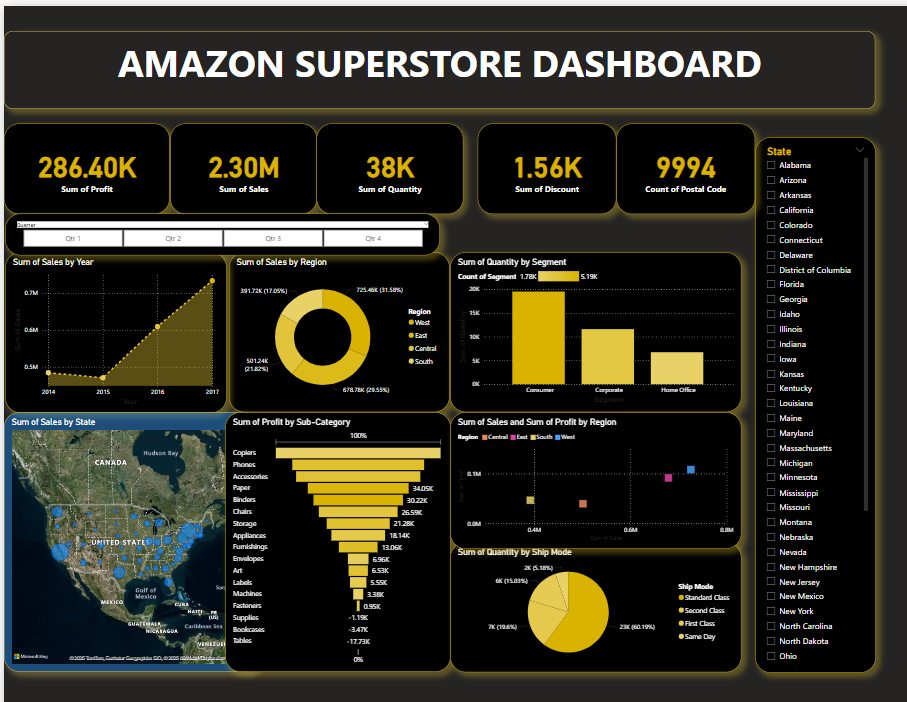

The dashboard page shown, as its layout file describes it:
{"tool":"powerbi","page":{"name":"DASHBOARD","canvas":[1700,1300],"ordinal":0},"visuals":[{"type":"textbox","box":[0,48.3,1700,151.7],"z":0},{"type":"donutChart","fields":{"Category":["Orders.Region"],"Y":["Sum(Orders.Sales)"]},"box":[440,481.7,430,311.7],"z":1000},{"type":"lineChart","fields":{"Category":["Orders.Order Date.Variation.Date Hierarchy.Year","Orders.Order Date.Variation.Date Hierarchy.Quarter","Orders.Order Date.Variation.Date Hierarchy.Month","Orders.Order Date.Variation.Date Hierarchy.Day"],"Y":["Sum(Orders.Sales)"]},"box":[1.7,481.7,431.7,313.3],"z":2000},{"type":"map","fields":{"Category":["Orders.State"],"Size":["Sum(Orders.Sales)"]},"box":[0,793.3,431.7,506.7],"z":3000},{"type":"slicer","fields":{"Values":["Orders.State"]},"box":[1465,255,235,1045],"z":4000},{"type":"funnel","fields":{"Y":["Sum(Orders.Profit)"],"Category":["Orders.Sub-Category"]},"box":[431.7,793.3,440,506.7],"z":5000},{"type":"clusteredColumnChart","fields":{"Category":["Orders.Segment"],"Y":["Sum(Orders.Quantity)"]},"box":[871.7,481.7,568.3,311.7],"z":6000},{"type":"pieChart","fields":{"Category":["Orders.Ship Mode"],"Y":["Sum(Orders.Quantity)"]},"box":[871.7,1046.7,568.3,253.3],"z":7000},{"type":"scatterChart","fields":{"X":["Sum(Orders.Sales)"],"Y":["Sum(Orders.Profit)"],"Series":["Orders.Region"]},"box":[870,793.3,568.3,266.7],"z":8000},{"type":"card","fields":{"Values":["Sum(Orders.Profit)"]},"box":[0,228.3,323.3,176.7],"z":9000},{"type":"card","fields":{"Values":["Sum(Orders.Sales)"]},"box":[323.3,228.3,286.7,176.7],"z":10000},{"type":"card","fields":{"Values":["Sum(Orders.Discount)"]},"box":[925,228.3,270,176.7],"z":11000},{"type":"card","fields":{"Values":["Sum(Orders.Quantity)"]},"box":[610,228.3,286.7,176.7],"z":12000},{"type":"card","fields":{"Values":["CountNonNull(Orders.Postal Code)"]},"box":[1195,228.3,270,176.7],"z":13000},{"type":"slicer","fields":{"Values":["Orders.Order Date.Variation.Date Hierarchy.Quarter"]},"box":[1.7,405,848.3,81.7],"z":14000}]}

Visuals, with their boxes in screenshot pixels (x1, y1, x2, y2), scaled from the page's 1700x1300 canvas onto the 907x702 screenshot:
textbox: (left=0, top=26, right=906, bottom=108)
donutChart - Orders.Region x Sum(Orders.Sales): (left=235, top=260, right=464, bottom=428)
lineChart - Orders.Order Date.Variation.Date Hierarchy.Year x Orders.Order Date.Variation.Date Hierarchy.Quarter: (left=1, top=260, right=231, bottom=429)
map - Orders.State x Sum(Orders.Sales): (left=0, top=428, right=230, bottom=701)
slicer - Orders.State: (left=782, top=138, right=906, bottom=701)
funnel - Sum(Orders.Profit) x Orders.Sub-Category: (left=230, top=428, right=465, bottom=701)
clusteredColumnChart - Orders.Segment x Sum(Orders.Quantity): (left=465, top=260, right=768, bottom=428)
pieChart - Orders.Ship Mode x Sum(Orders.Quantity): (left=465, top=565, right=768, bottom=701)
scatterChart - Sum(Orders.Sales) x Sum(Orders.Profit): (left=464, top=428, right=767, bottom=572)
card - Sum(Orders.Profit): (left=0, top=123, right=172, bottom=219)
card - Sum(Orders.Sales): (left=172, top=123, right=325, bottom=219)
card - Sum(Orders.Discount): (left=494, top=123, right=638, bottom=219)
card - Sum(Orders.Quantity): (left=325, top=123, right=478, bottom=219)
card - CountNonNull(Orders.Postal Code): (left=638, top=123, right=782, bottom=219)
slicer - Orders.Order Date.Variation.Date Hierarchy.Quarter: (left=1, top=219, right=454, bottom=263)
